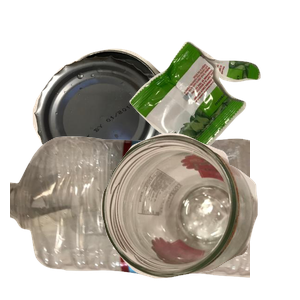glass: (98, 131, 300, 300)
metal: (30, 46, 205, 215)
plastic: (10, 134, 250, 300)
trash: (127, 39, 300, 193)
